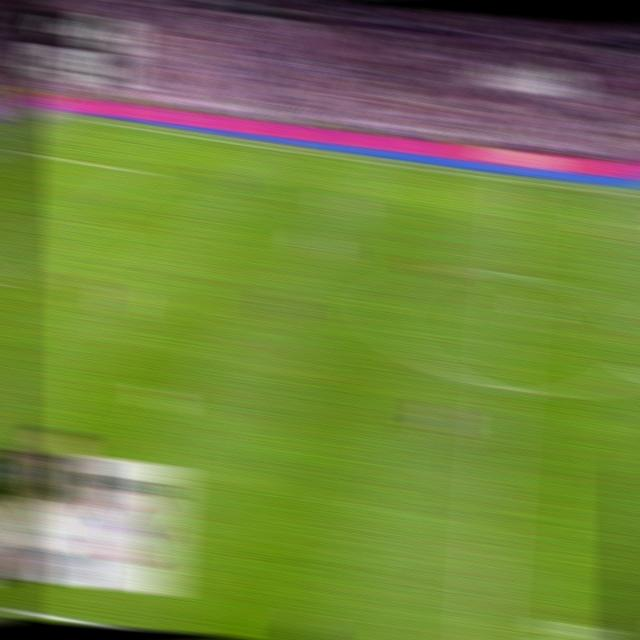bigarea_top_inner: (133, 163, 163, 181)
corner: (45, 108, 76, 122)
halfcircle_bottom: (485, 370, 520, 402)
halfcircle_top: (494, 258, 530, 287)
midline_top_intersection: (505, 172, 534, 190)
top_arc_area_intersection: (76, 204, 106, 224)
